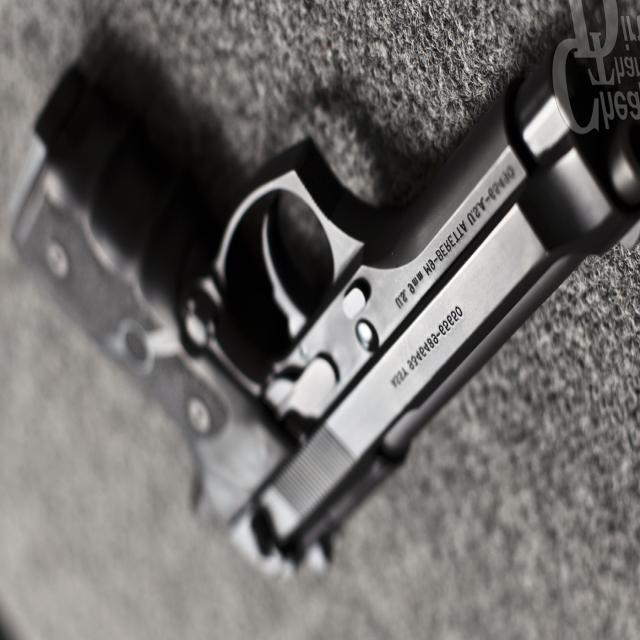Gun: (13, 32, 640, 591)
